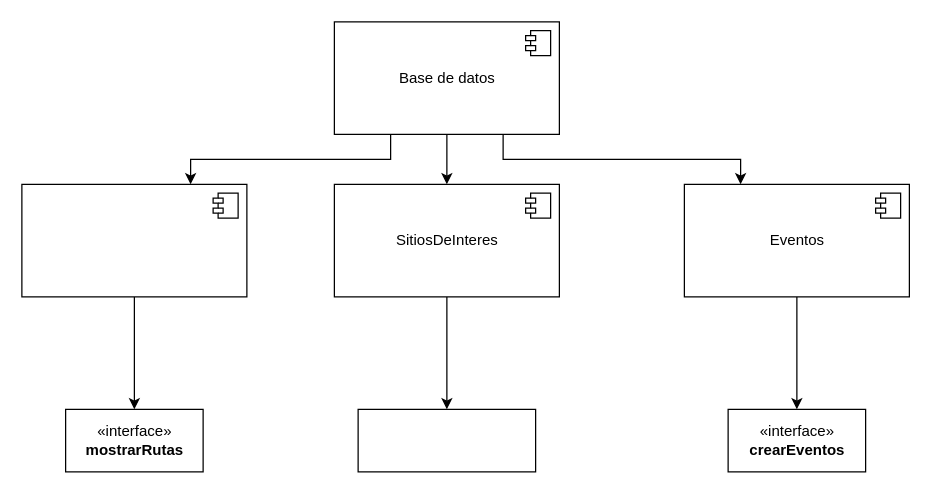
The diagram is 931 pixels wide and 494 high, and some of its shapes have lost their labels. Here are the shapes that lost their labels. From the top down, the centre of each, then its label:
At pixel 134 240: "Rutas".
At pixel 446 440: "«interface» mostrarLugaresInteres".
